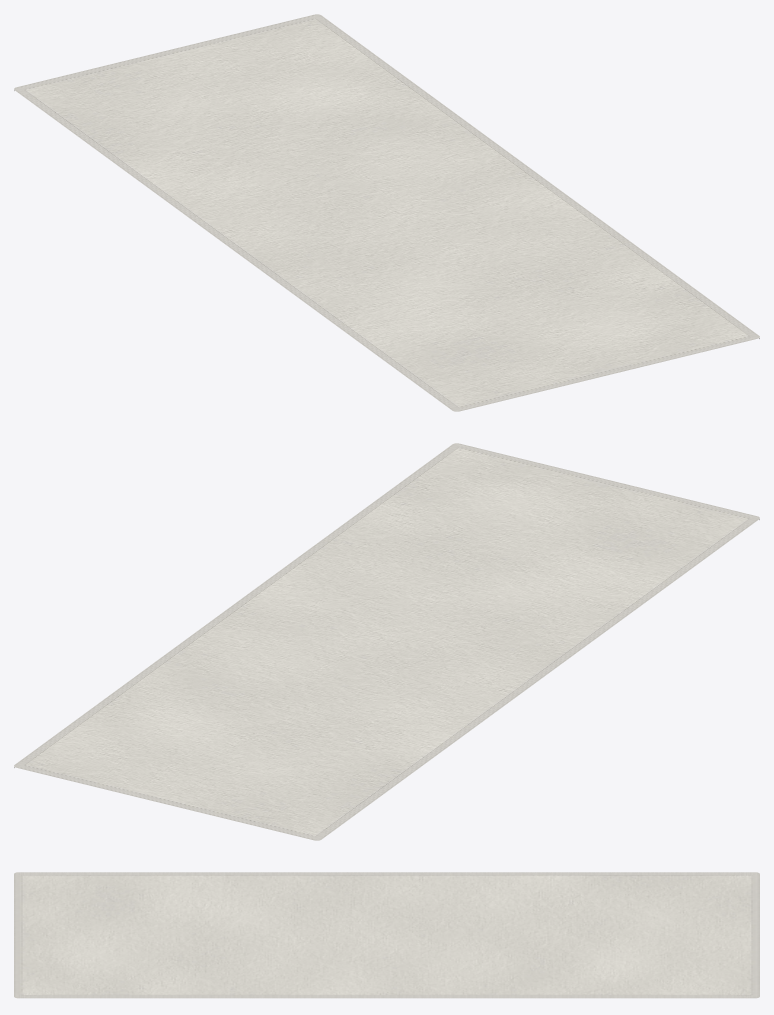
The model's file is ivory_hall.glb.
3 renders of one model, top to bottom at view 1: azimuth 30°, elevation 25°; view 2: azimuth 150°, elevation 25°; view 3: azimuth 270°, elevation 25°, orthographic. The views are drawn at different scales.
Parts seen in each view (by area): view 1: reliv_ivory_hall; view 2: reliv_ivory_hall; view 3: reliv_ivory_hall.
Part boxes in pixels (bbox=[...]): reliv_ivory_hall: bbox=[14, 14, 759, 411]; reliv_ivory_hall: bbox=[14, 443, 759, 840]; reliv_ivory_hall: bbox=[14, 872, 759, 998].
Bounding box in the file's own units: 1 × 0.009 × 2.5.
Materials: 2 (1 with a texture image).
